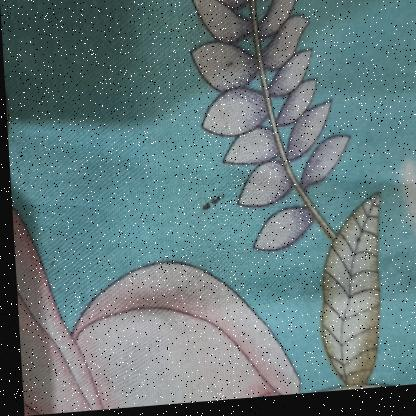spot: (195, 187, 227, 226), (221, 56, 234, 78)
